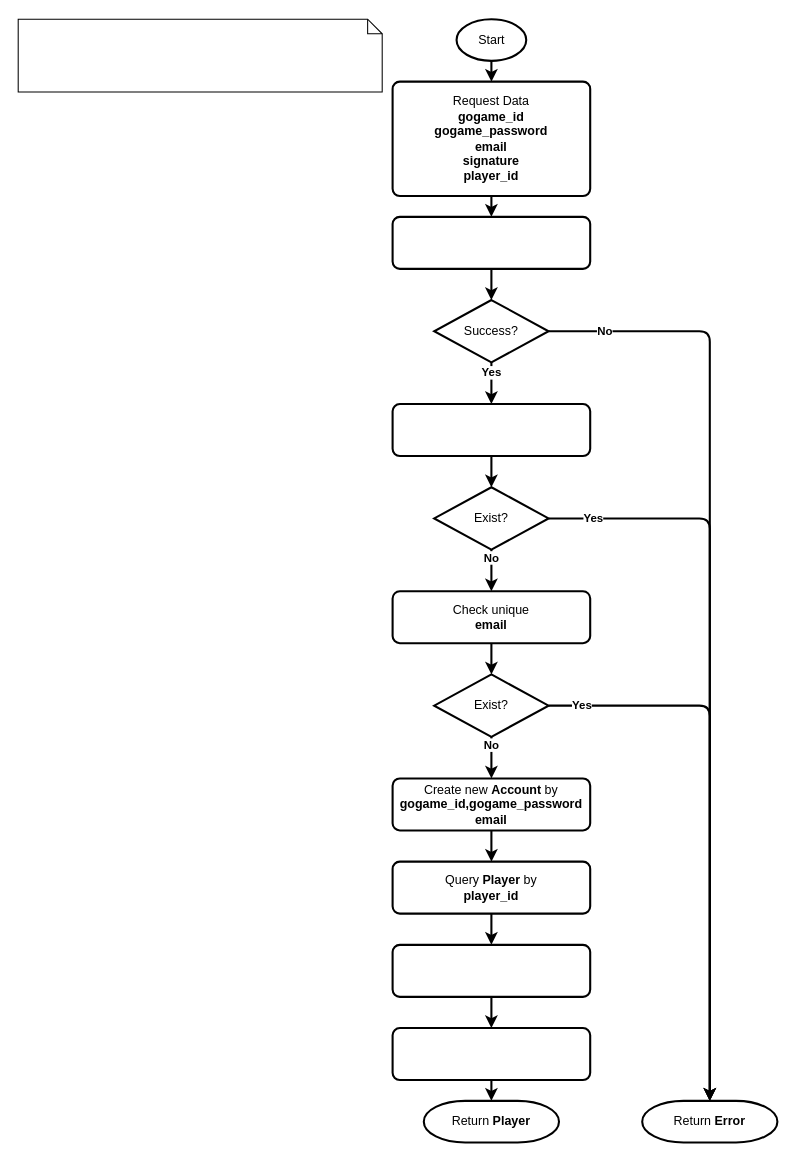
Some shapes in this 797 by 1161 pixel diagram are drawn without their labels. Here are the shapes that lost their labels. From the top down, the centre of each, then its label:
At point (199, 55): "Notes: + Main-flow always follows top-down direction from Start node.".
At point (491, 242): "Check signature".
At point (491, 429): "Query Account by gogame_id".
At point (491, 970): "Link Account to this Player".
At point (491, 1053): "Set Player Property gogame_linked=True".
